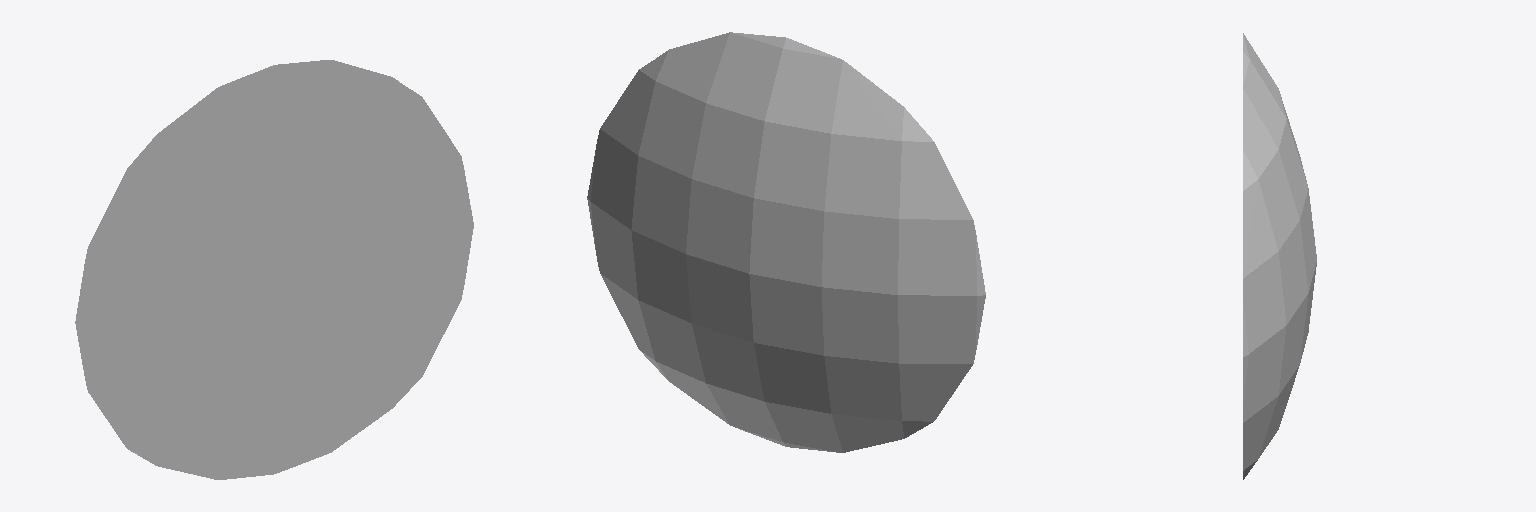
File: apple_slice_01.obj
The picture shows the model from 3 angles: view 1: azimuth 30°, elevation 25°; view 2: azimuth 150°, elevation 25°; view 3: azimuth 270°, elevation 25°; orthographic projection.
Parts seen in each view (by area): view 1: Apple.Slices.001_Sphere.002; view 2: Apple.Slices.001_Sphere.002; view 3: Apple.Slices.001_Sphere.002.
Boxes of the visible parts, x1,y1,x2,y2 form: Apple.Slices.001_Sphere.002: [75, 60, 473, 479]; Apple.Slices.001_Sphere.002: [587, 32, 985, 452]; Apple.Slices.001_Sphere.002: [1243, 33, 1316, 479].
Size of the model in its own units: 1.09 by 1.07 by 0.177.